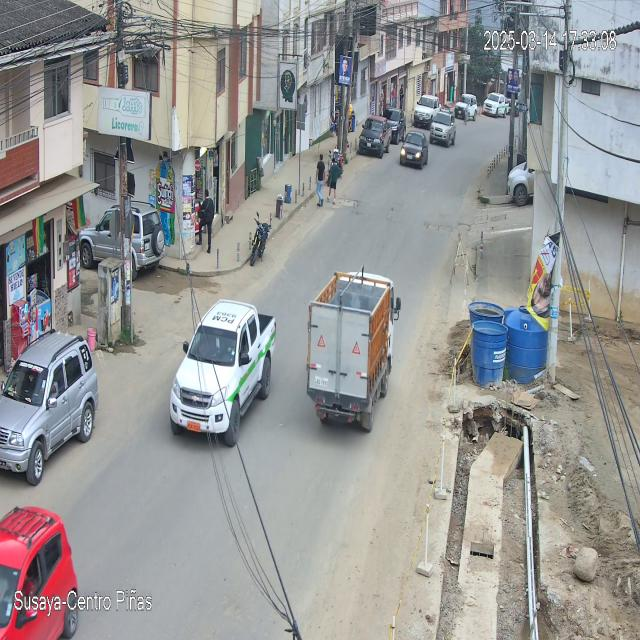CMT: (167, 298, 277, 444)
SUV: (0, 332, 100, 482)
TRUCK: (306, 271, 399, 433)
